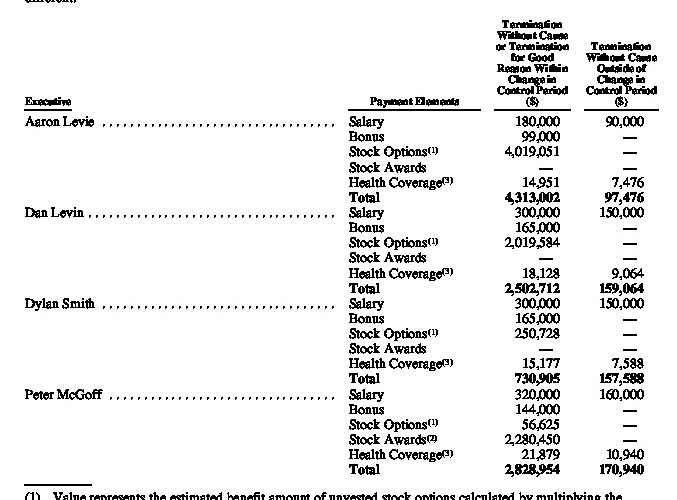table: (0, 0, 677, 500)
